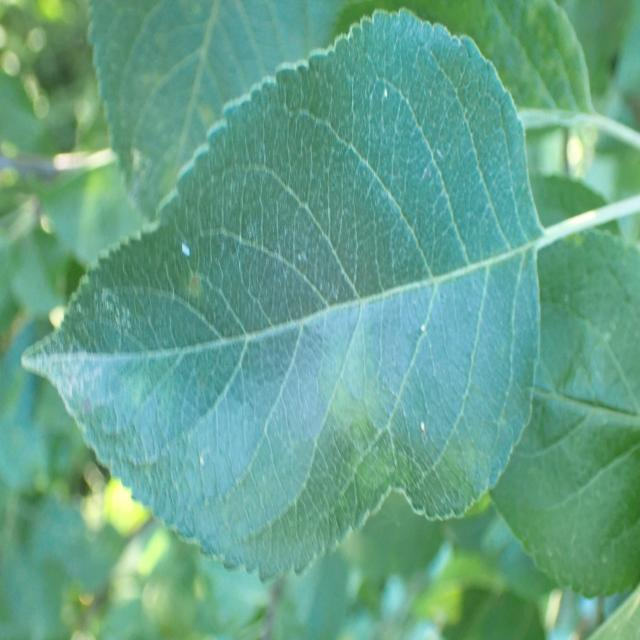scab: (61, 223, 512, 546)
